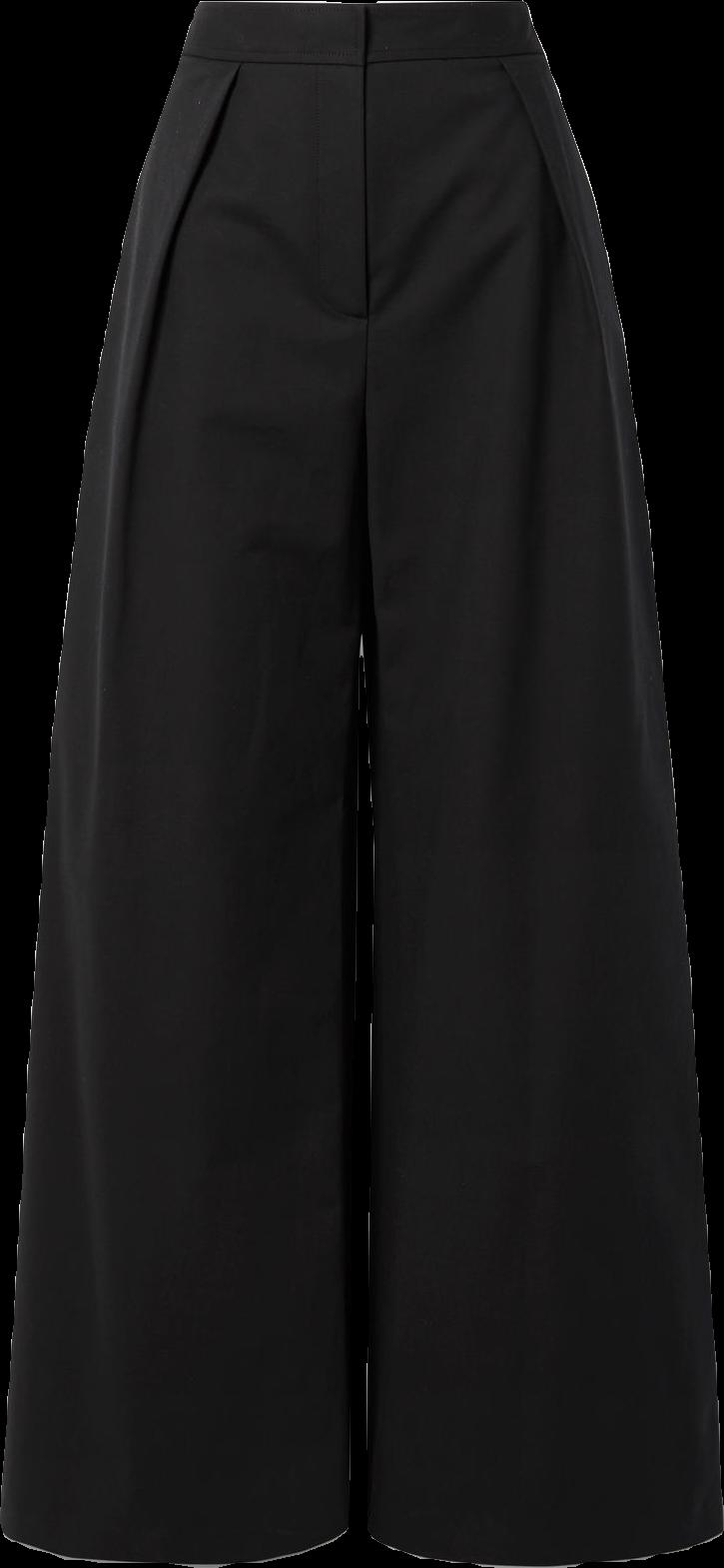Hemline: (0, 1512, 355, 1566), (365, 1520, 723, 1566)
Pantleg: (357, 0, 722, 1564), (0, 0, 361, 1564)
Waistline: (178, 37, 542, 78), (188, 0, 526, 20)
